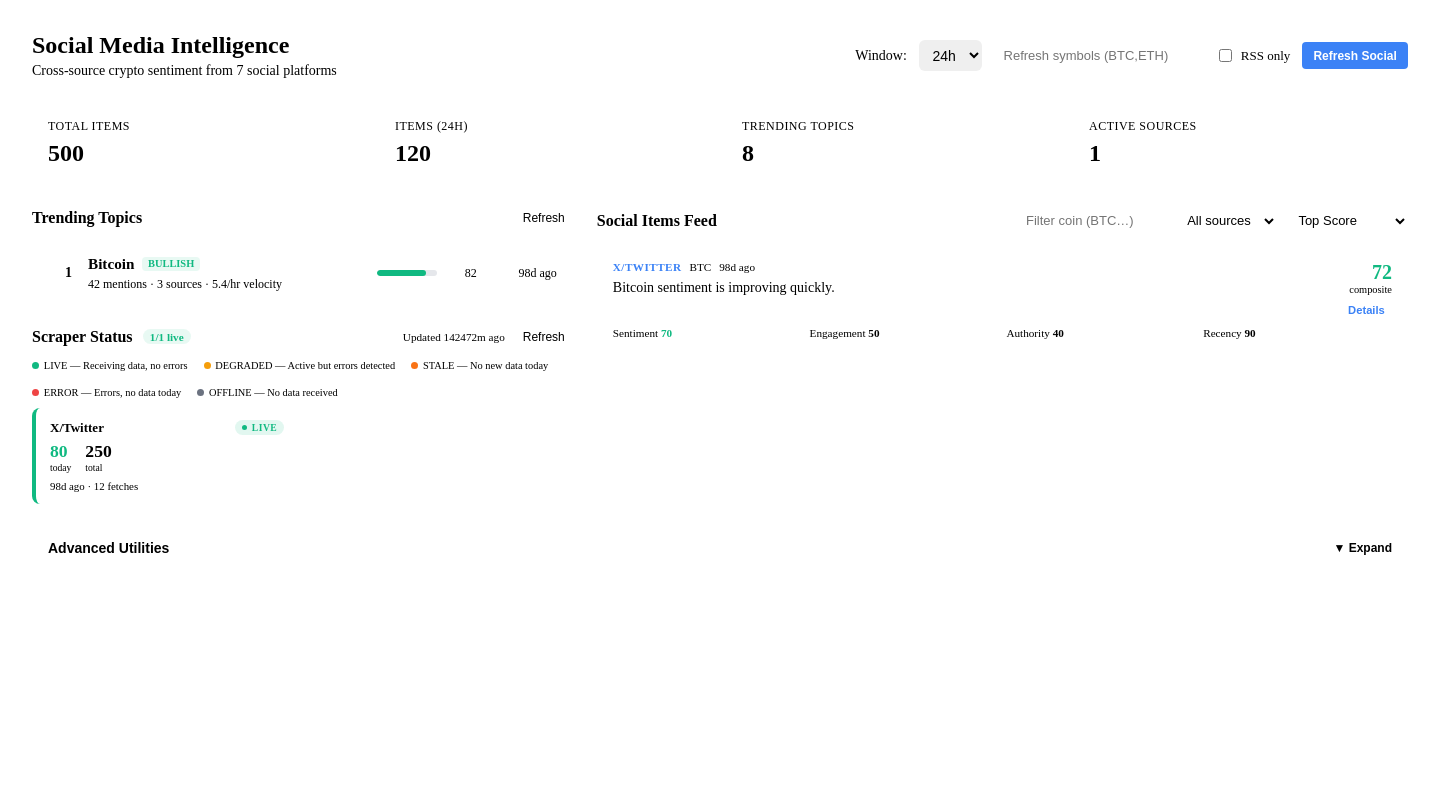
Scenario: SocialDashboard › AdvancedUtilitiesPanel › shows scrape result on success
This screenshot has width=1440, height=810.
Click the button "Advanced Utilities ▼ Expand": (109, 548) [32,528,1408,568]
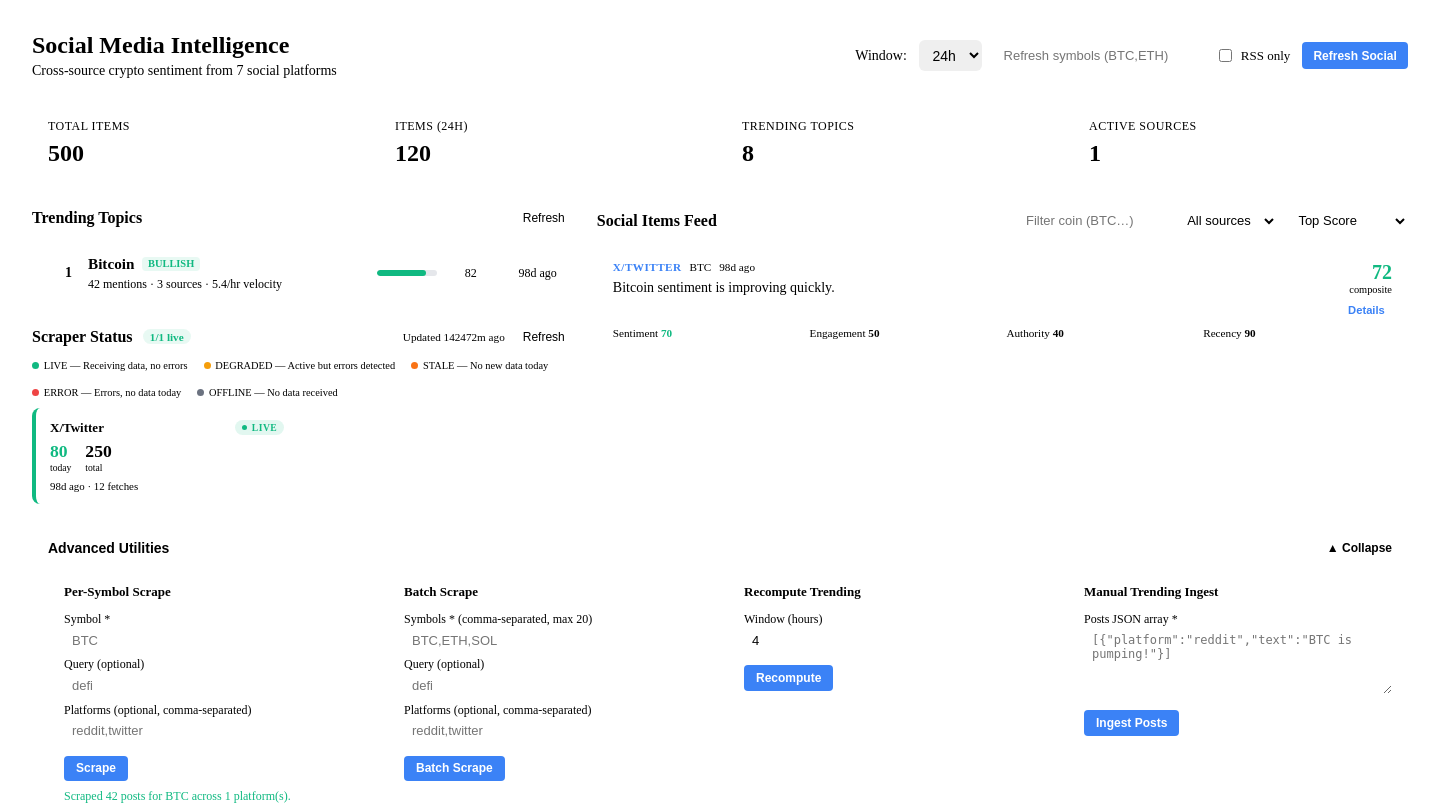
expect the text "Scraped 42 posts for BTC across 1 platform(s)." is shown: met, box [64,789,291,803]
